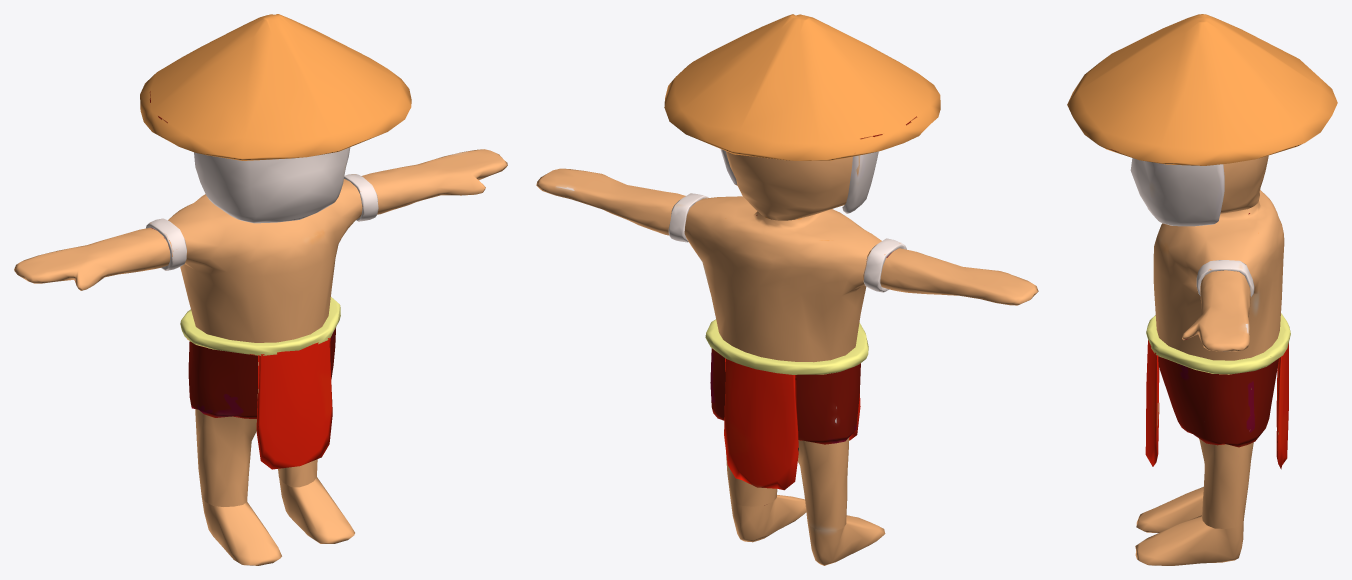
The model's file is rimong 10.fbx.
3 views of the same model, side by side, from view 1: azimuth 30°, elevation 25°; view 2: azimuth 150°, elevation 25°; view 3: azimuth 270°, elevation 25° (orthographic).
Visible parts, largest first — view 1: polySurface97; view 2: polySurface97; view 3: polySurface97.
Boxes of the visible parts, bbox=[...] form: polySurface97: bbox=[14, 14, 507, 565]; polySurface97: bbox=[536, 14, 1038, 565]; polySurface97: bbox=[1067, 14, 1337, 565].
Size of the model in its own units: 579 by 593 by 276.
1 material, 1 textured.
